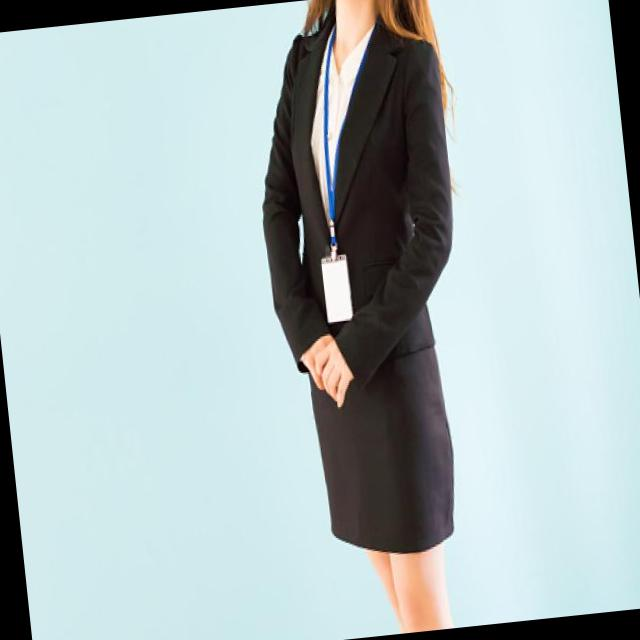id_card: (293, 6, 392, 328)
